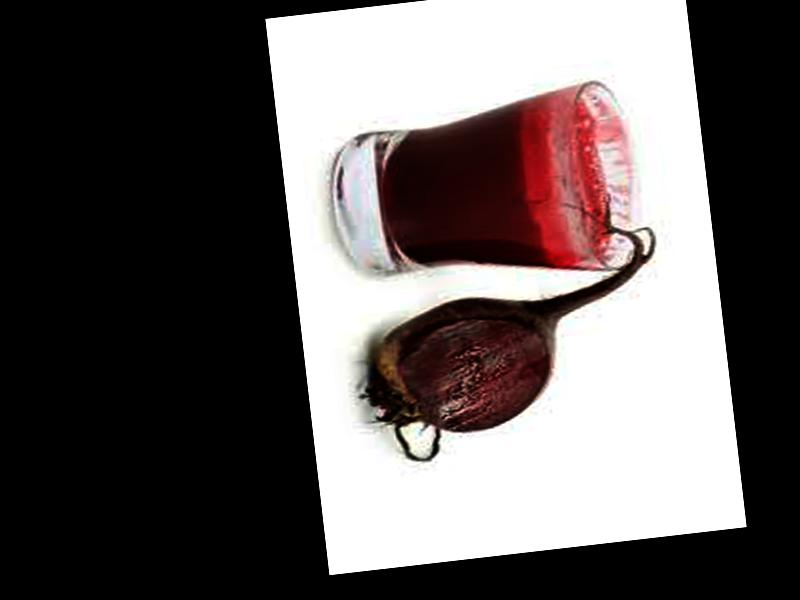Beet: (345, 198, 677, 466)
